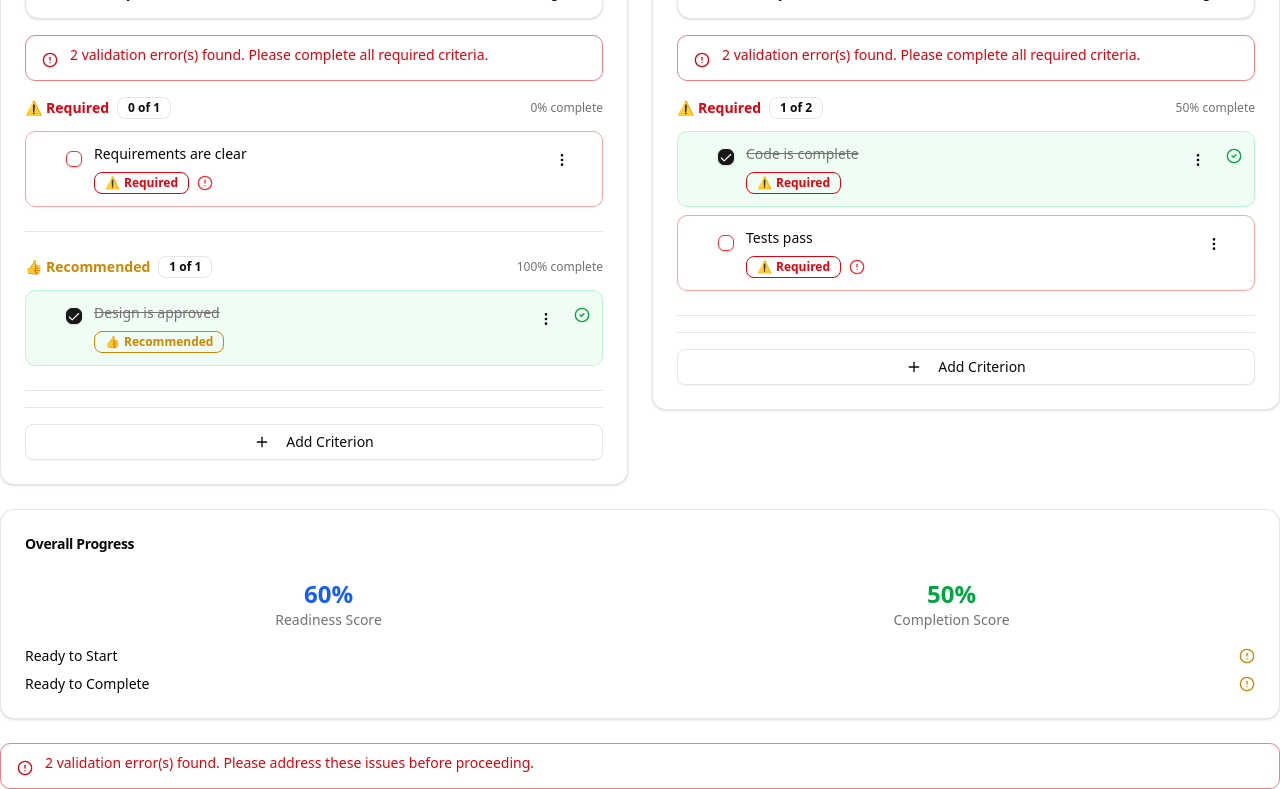
DorDodPanel › Criterion Management › opens criterion editor when add button is clicked
This screenshot has width=1280, height=789.
(page scrolled)
Click the button "Add Criterion" below "Design is approved": (314, 442) x1=25 y1=424 x2=603 y2=460
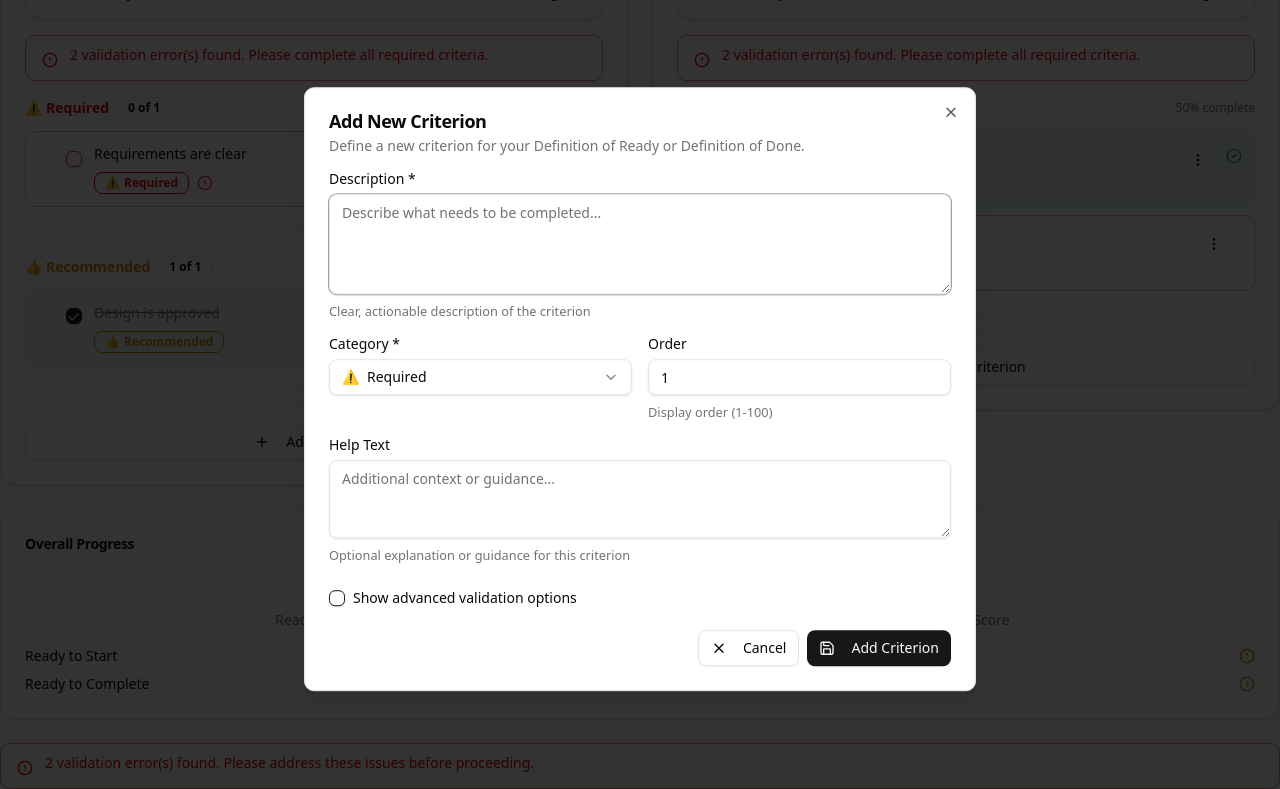
Check: the heading "Add New Criterion" is shown, box x1=329 y1=109 x2=486 y2=133
